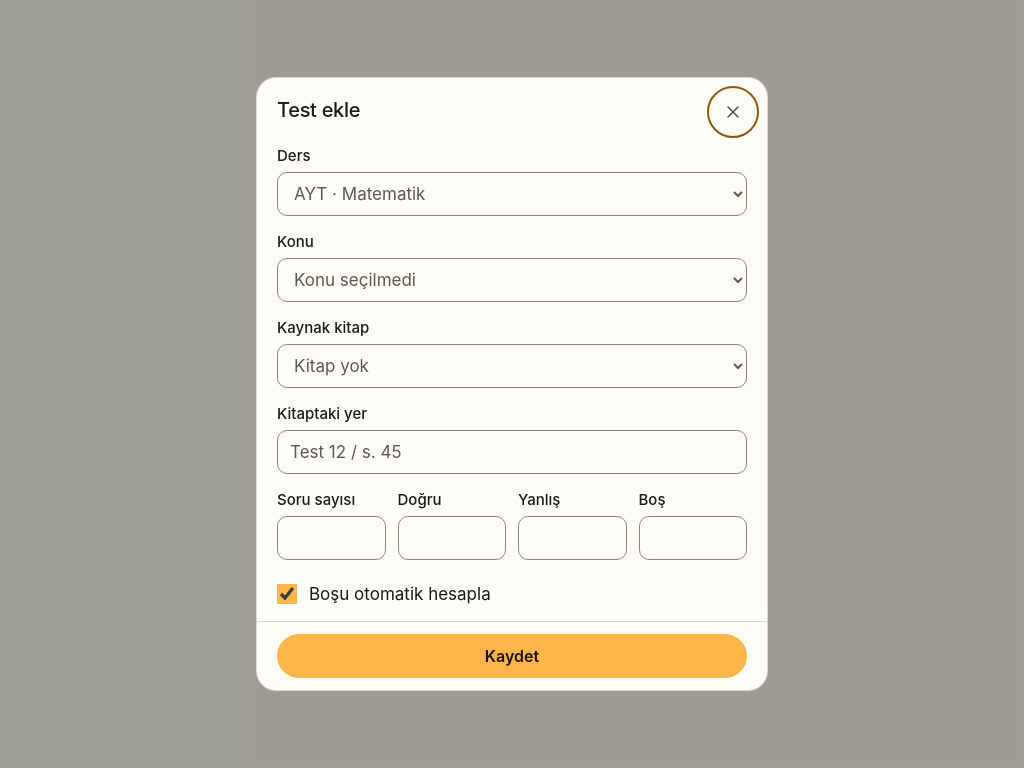
TestResultSheet › kaydetme başarısız olursa hata gösterir ve açık kalır
Type "5" into the number field labelled "Doğru" at (452, 538), box [398, 516, 506, 560]
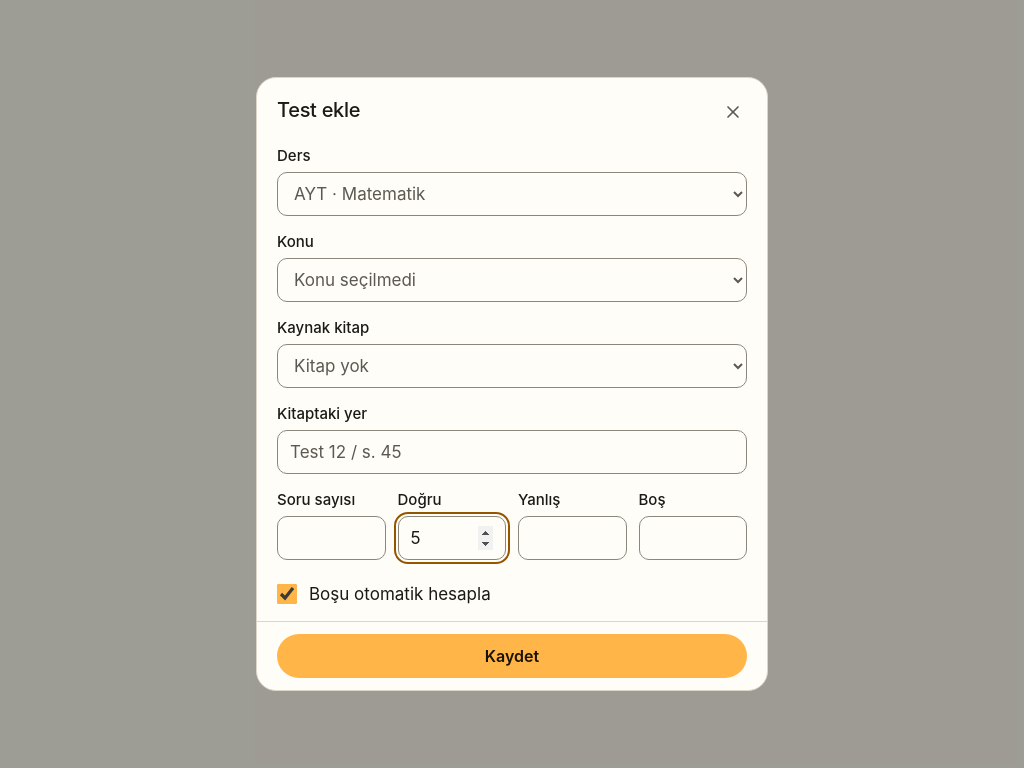
Click the button "Kaydet" at (512, 656), box [277, 634, 747, 678]
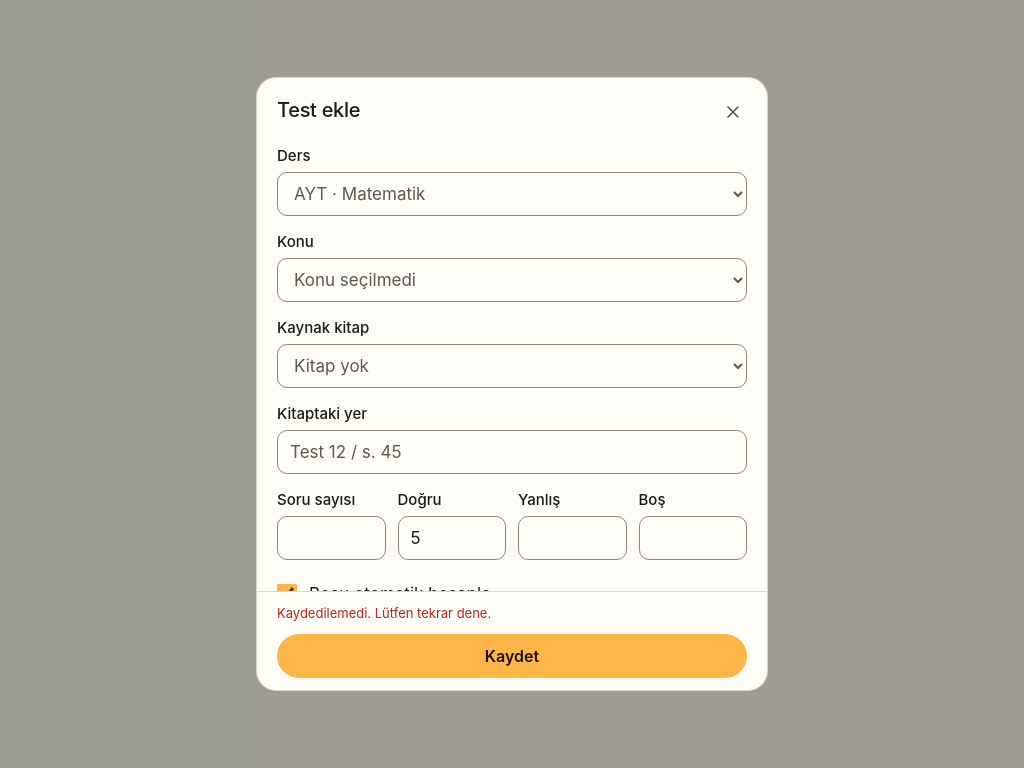
expect the message shows "Kaydedilemedi": met, box [277, 605, 491, 621]
